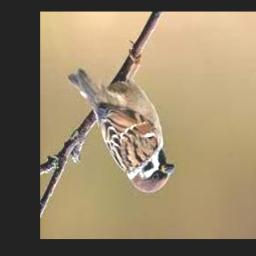Sparrow: (67, 46, 175, 193)
